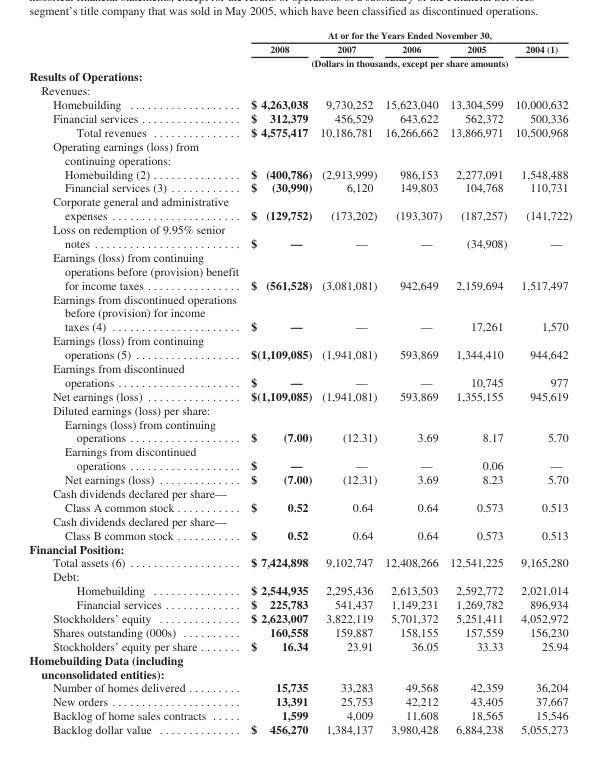table: (28, 29, 571, 735)
table column: (28, 29, 244, 735), (244, 29, 315, 735), (315, 29, 380, 735), (380, 29, 445, 735), (445, 29, 510, 735), (510, 29, 571, 735)
table column header: (28, 29, 571, 68)
table projected row header: (28, 138, 571, 166), (28, 652, 571, 680), (28, 68, 571, 83), (28, 402, 571, 416), (28, 541, 571, 555), (28, 569, 571, 583), (28, 83, 571, 96)
table row: (28, 249, 571, 291), (28, 291, 571, 333), (28, 138, 571, 166), (28, 194, 571, 222), (28, 333, 571, 361), (28, 416, 571, 444), (28, 513, 571, 541), (28, 652, 571, 680), (28, 222, 571, 249), (28, 361, 571, 388), (28, 444, 571, 471), (28, 486, 571, 513), (28, 41, 571, 56), (28, 68, 571, 83), (28, 471, 571, 486), (28, 96, 571, 110), (28, 110, 571, 124), (28, 124, 571, 138), (28, 166, 571, 180), (28, 180, 571, 194), (28, 388, 571, 402), (28, 402, 571, 416), (28, 541, 571, 555), (28, 555, 571, 569), (28, 569, 571, 583), (28, 596, 571, 610), (28, 610, 571, 624), (28, 624, 571, 638), (28, 638, 571, 652), (28, 680, 571, 694), (28, 694, 571, 708), (28, 721, 571, 735), (28, 83, 571, 96), (28, 583, 571, 596), (28, 708, 571, 721), (28, 29, 571, 41), (28, 56, 571, 68)
table spanning cell: (244, 29, 571, 41), (244, 56, 571, 68)
